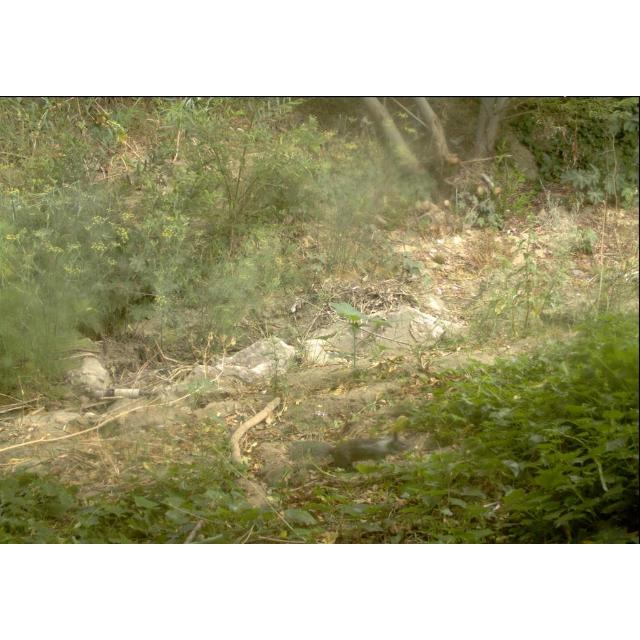animals: (288, 431, 407, 474)
